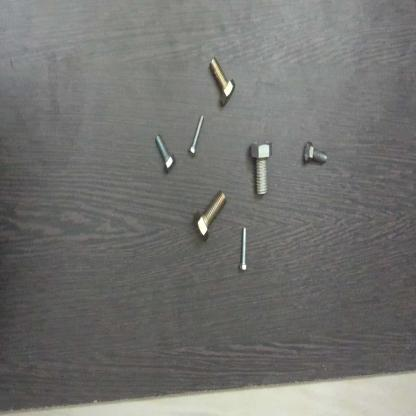Bolts: (191, 186, 228, 250), (208, 52, 236, 112), (248, 136, 273, 202), (186, 108, 208, 164), (154, 126, 178, 177), (301, 137, 327, 173), (239, 224, 252, 282)
